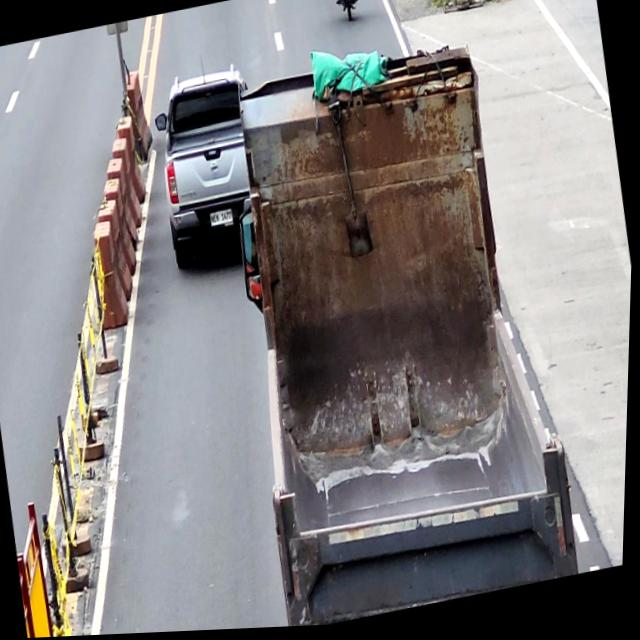Car: (146, 64, 275, 275)
License-Plate: (210, 209, 236, 230)
Truck: (205, 28, 599, 632)
